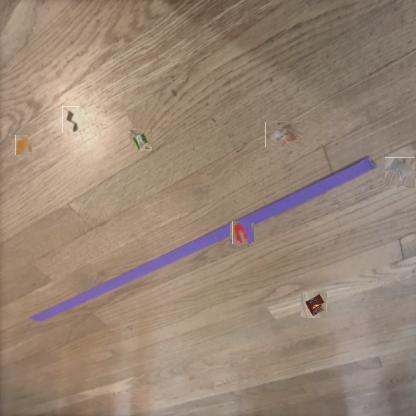dirty: (265, 121, 302, 147), (385, 157, 416, 187), (302, 293, 326, 317), (130, 129, 152, 151), (62, 106, 79, 133)
liquid: (231, 222, 253, 243), (14, 137, 30, 154)
